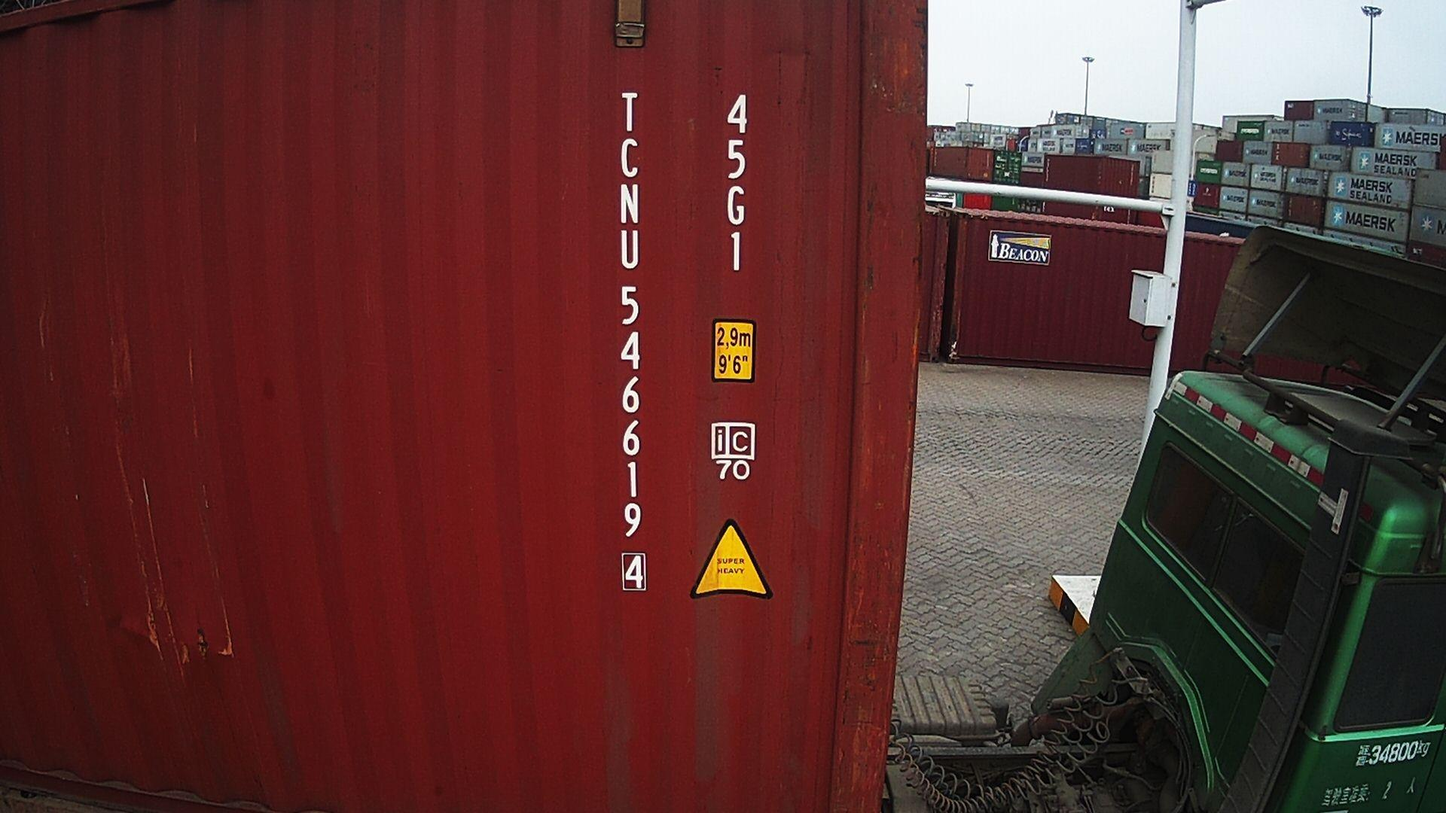container-numbers: (612, 88, 654, 603), (719, 90, 756, 276)
